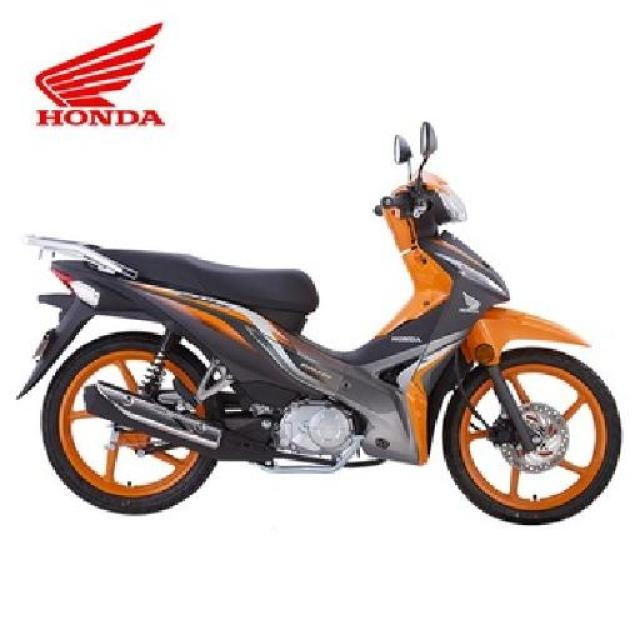All: (18, 167, 626, 525)
Head: (370, 170, 476, 228)
Tail: (24, 230, 107, 314)
